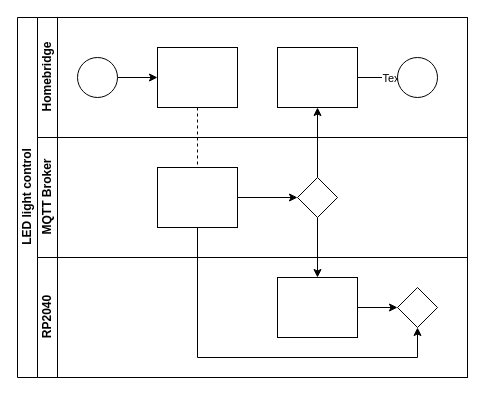
Some shapes in this 485 by 395 pixel diagram are drawn without their labels. Each missing label, with the centre of its shape:
SetRGB: point (317, 77)
Turn On: point (197, 77)
